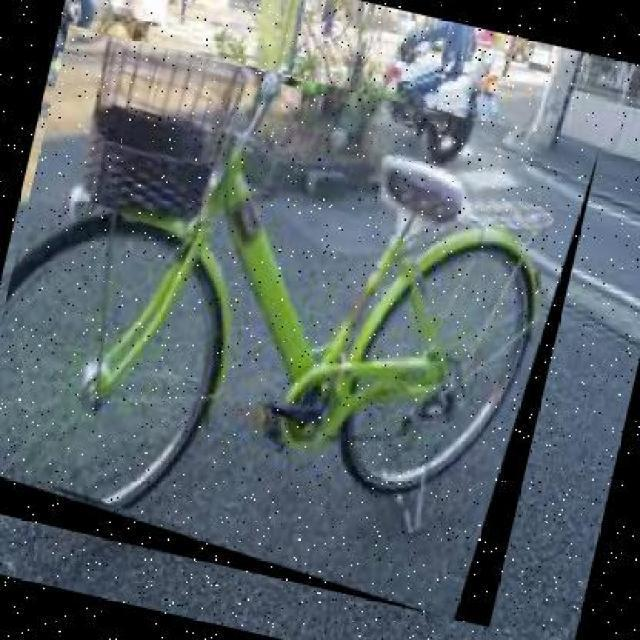bicycle: (1, 27, 601, 630)
